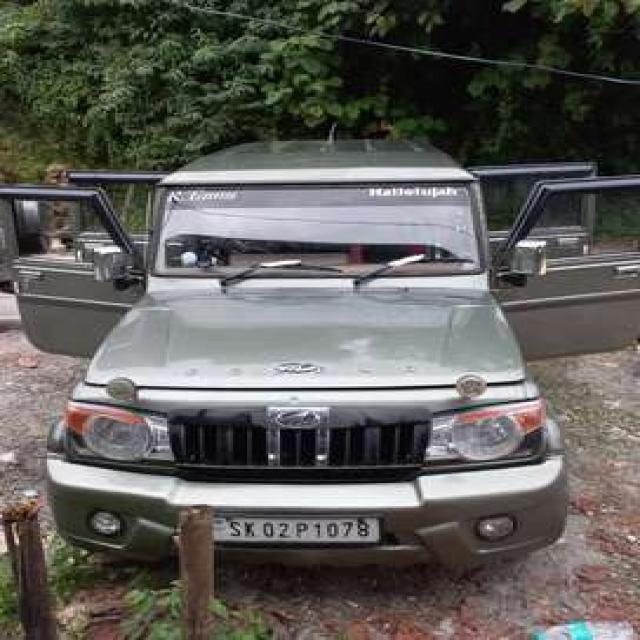plate: (210, 515, 387, 547)
